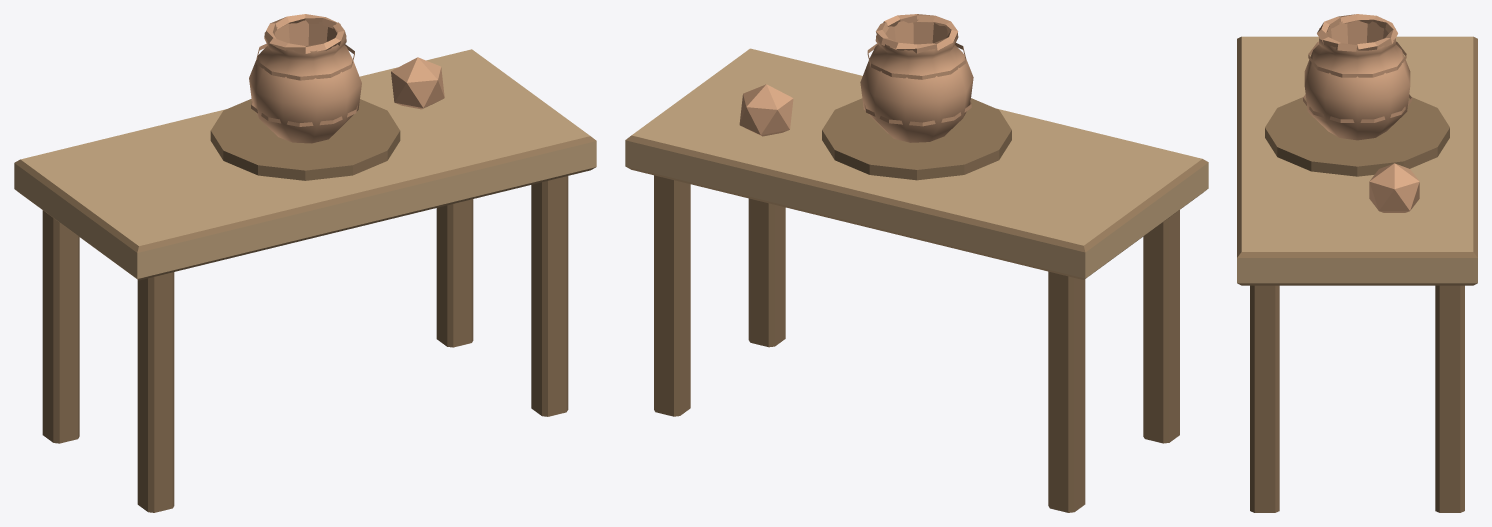
The model's file is pottery_wheel_working.glb.
3 views of the same model, side by side, from view 1: azimuth 30°, elevation 25°; view 2: azimuth 150°, elevation 25°; view 3: azimuth 270°, elevation 25° (orthographic). The views are drawn at different scales.
Visible parts, largest first — view 1: pottery_wheel_working; view 2: pottery_wheel_working; view 3: pottery_wheel_working.
Boxes of the visible parts, x1,y1,x2,y2 form: pottery_wheel_working: [14, 14, 596, 512]; pottery_wheel_working: [625, 14, 1208, 512]; pottery_wheel_working: [1237, 14, 1477, 512].
Bounding box in the file's own units: 1.4 × 1.14 × 0.65.
